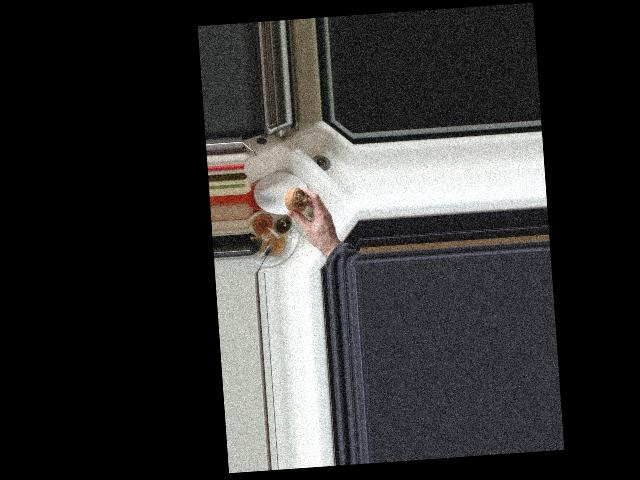sweet_potato: (283, 185, 310, 218)
